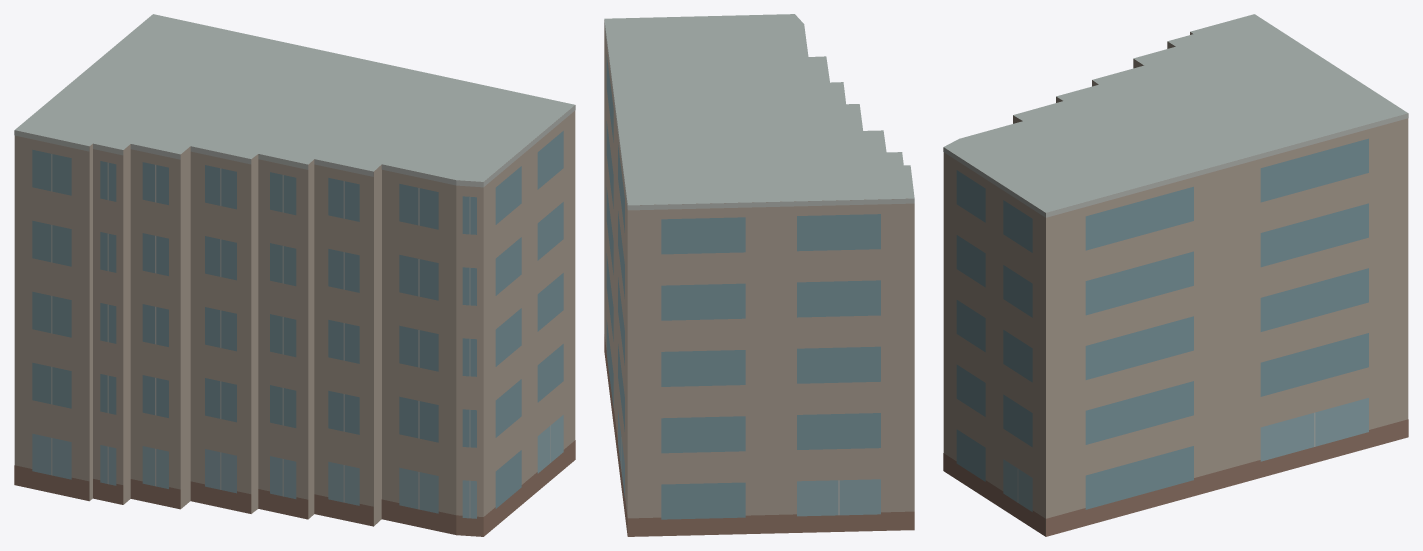
File: survey-upis-32735211.glb
The picture shows the model from 3 angles, left to right: view 1: azimuth 30°, elevation 25°; view 2: azimuth 150°, elevation 25°; view 3: azimuth 270°, elevation 25°; orthographic projection. The views are drawn at different scales.
Visible parts, largest first — view 1: survey-upis-32735211.tmp; view 2: survey-upis-32735211.tmp; view 3: survey-upis-32735211.tmp.
Part boxes in pixels (x1,y1,x2,y2): survey-upis-32735211.tmp: (14,14,575,536); survey-upis-32735211.tmp: (604,14,914,536); survey-upis-32735211.tmp: (943,14,1408,536).
Size of the model in its own units: 21.21 by 16.1 by 20.95.
